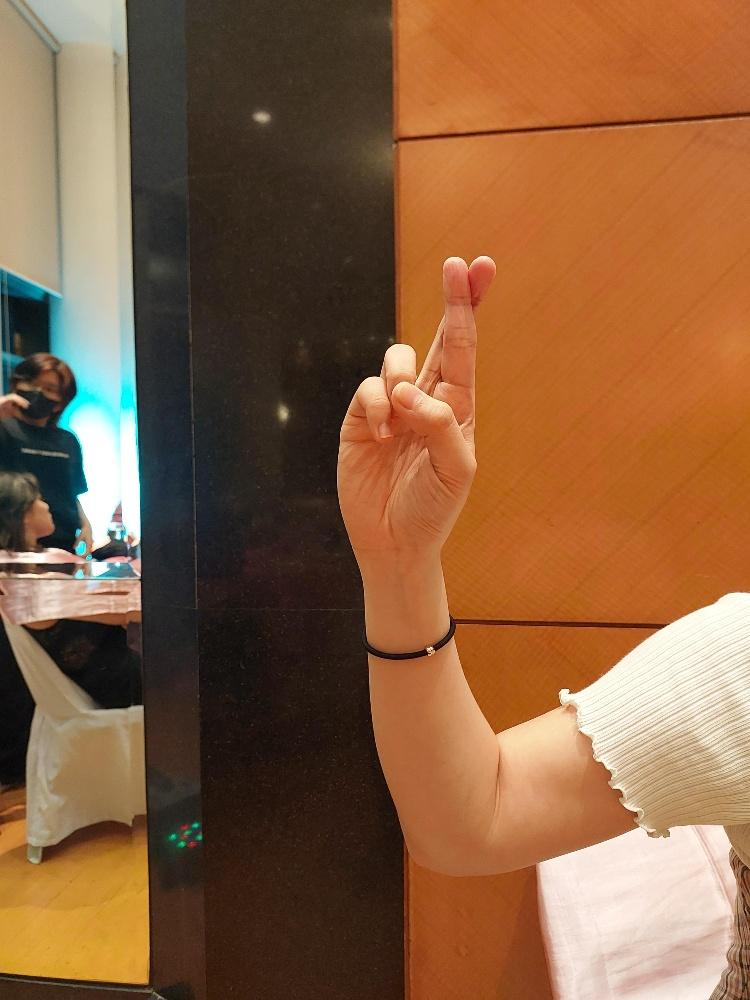r: (333, 250, 498, 561)
